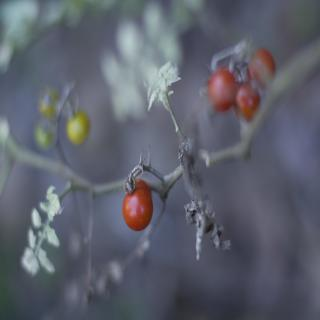tomato: (121, 174, 154, 234), (206, 66, 236, 113), (248, 48, 278, 87), (235, 84, 262, 119), (67, 113, 92, 145)
